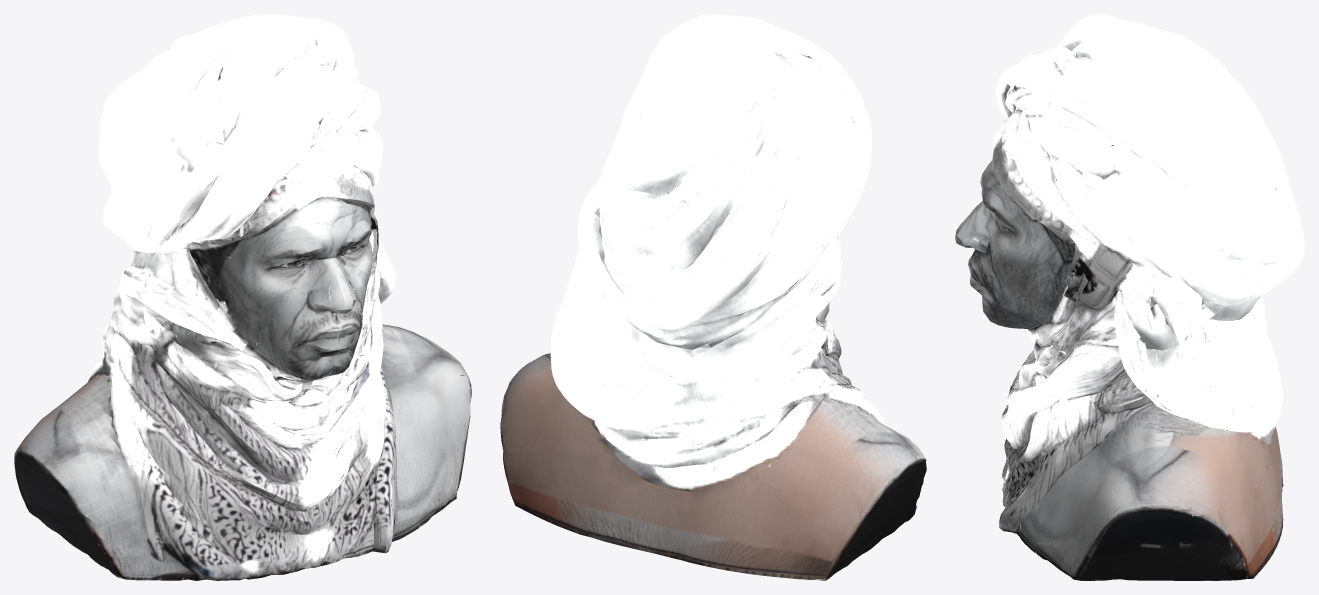
File: Askia_Mohamed_draw.glb
3 renders of one model, left to right at view 1: azimuth 30°, elevation 25°; view 2: azimuth 150°, elevation 25°; view 3: azimuth 270°, elevation 25°, orthographic. The views are drawn at different scales.
Visible parts, largest first — view 1: output; view 2: output; view 3: output.
Boxes of the visible parts, x1,y1,x2,y2 form: output: [14, 14, 471, 580]; output: [500, 14, 926, 580]; output: [955, 14, 1304, 580].
Bounding box in the file's own units: 1.69 × 1.92 × 1.29.
1 material, 1 textured.
